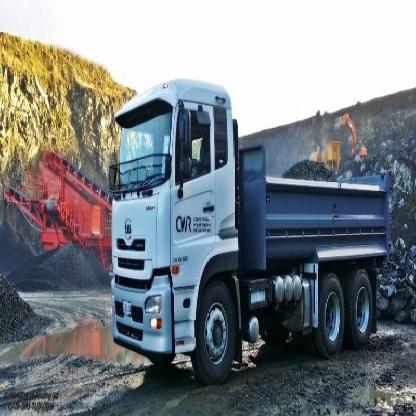dump_truck: (109, 68, 404, 390)
